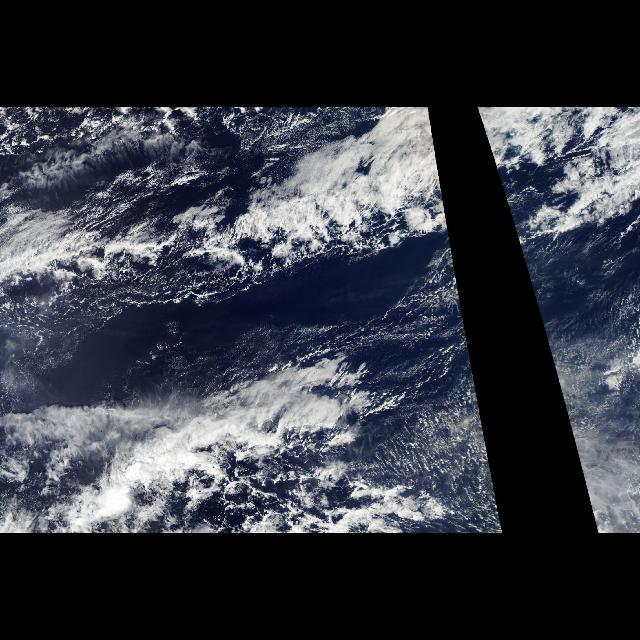Gravel: (386, 266, 478, 386)
Sugar: (376, 399, 504, 528)
